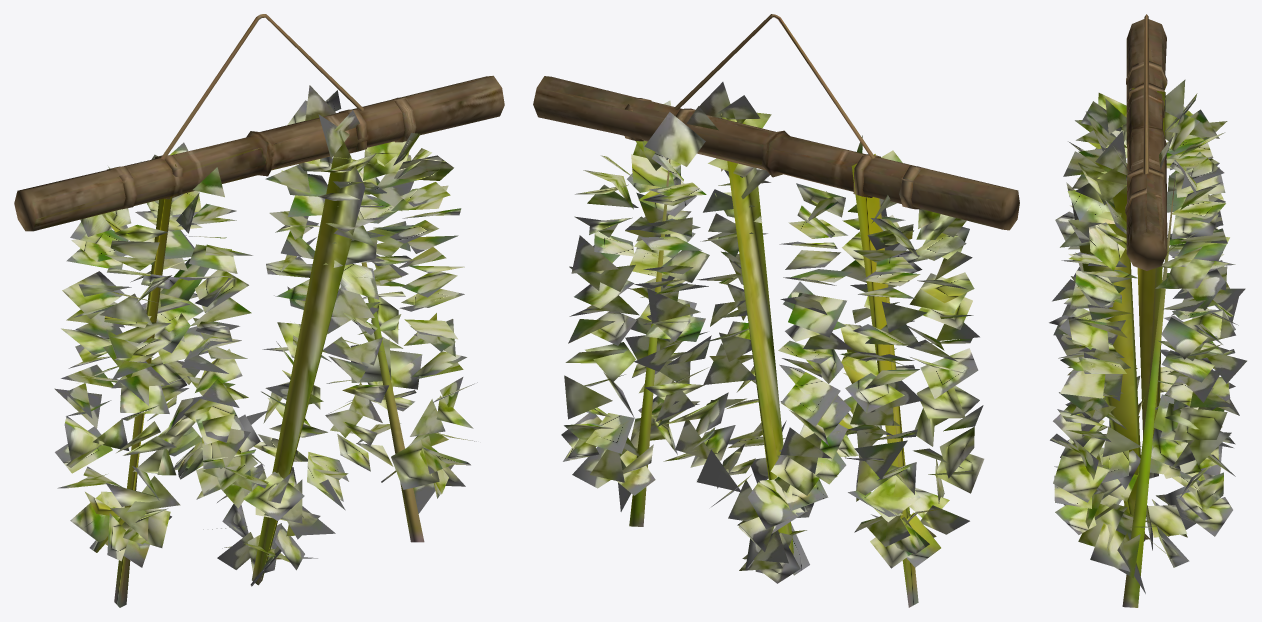
File: sampaguita.glb
The picture shows the model from 3 angles, left to right: view 1: azimuth 30°, elevation 25°; view 2: azimuth 150°, elevation 25°; view 3: azimuth 270°, elevation 25°; orthographic projection. The views are drawn at different scales.
Visible parts, largest first — view 1: geometry_0; view 2: geometry_0; view 3: geometry_0.
Part boxes in pixels (left/top/right/bottom): geometry_0: left=14, top=14, right=504, bottom=607; geometry_0: left=533, top=14, right=1019, bottom=607; geometry_0: left=1049, top=14, right=1246, bottom=607.
Bounding box in the file's own units: 0.8718 × 1 × 0.3395.
Materials: 1 (1 with a texture image).
